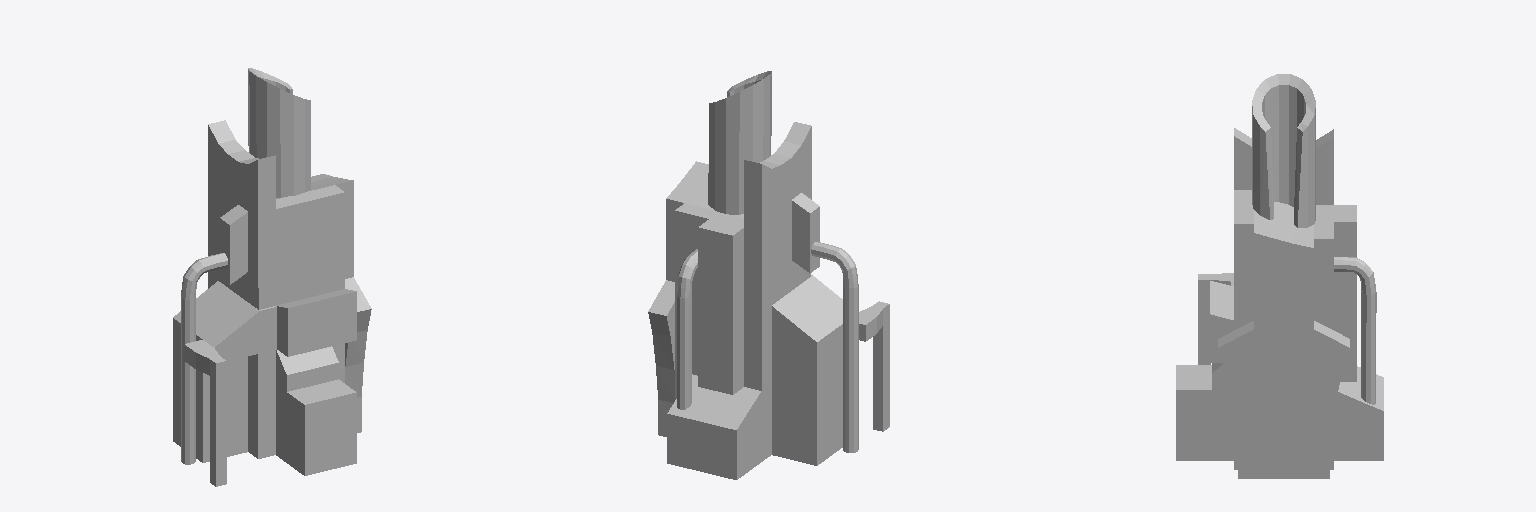
File: Building_1.obj
3 views of the same model, side by side, from view 1: azimuth 30°, elevation 25°; view 2: azimuth 150°, elevation 25°; view 3: azimuth 270°, elevation 25° (orthographic).
Visible parts, largest first — view 1: building_1; view 2: building_1; view 3: building_1.
Part boxes in pixels (bbox=[...]): building_1: bbox=[173, 68, 371, 486]; building_1: bbox=[648, 71, 889, 479]; building_1: bbox=[1176, 74, 1383, 478].
Size of the model in its own units: 27.13 by 55.54 by 28.78.